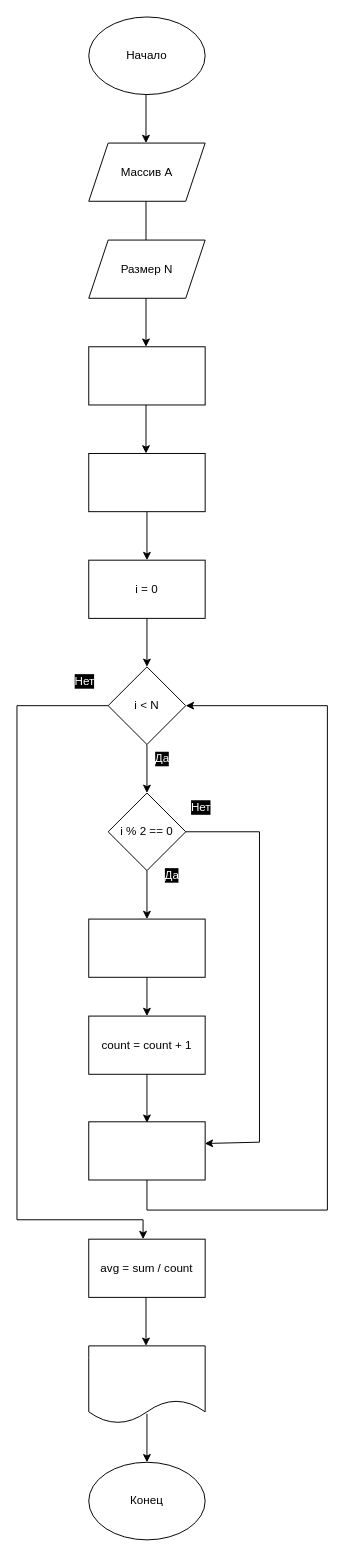
Image size: 352x1557. Some labels were removed from this diagram. The box of each missing label's shape, as (x1, y1, x2, y2) in pixels:
avg: (88, 1345, 205, 1423)
count = 0: (88, 453, 205, 512)
i = i + 1: (88, 1121, 205, 1180)
sum = 0: (88, 346, 205, 405)
sum = sum + A[i]: (88, 918, 205, 977)
